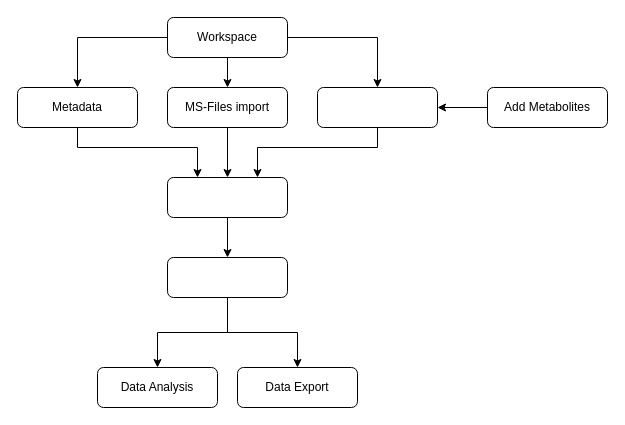
This 625x425 diagram has some shape labels left out. The shapes that lost their labels are listed below. From the top down, each one's centre as x and y in pixels, then its label:
pixel 377 107: Peaklist
pixel 227 197: Optimize Peaks
pixel 227 277: Process MINT
